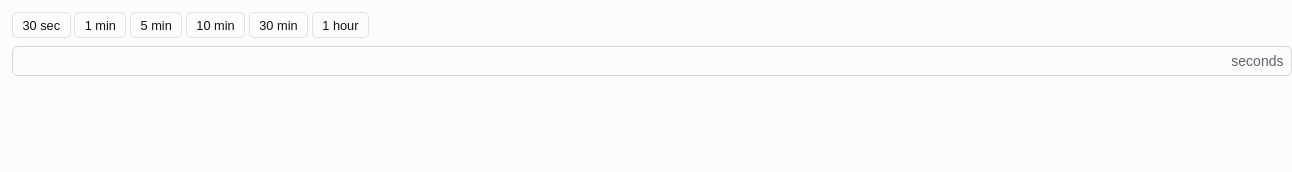
Test: a preset sets its seconds and shows as pressed
The image size is (1292, 172).
Click the button "10 min" at x=216, y=25, box x1=186 y1=12 x2=245 y2=38
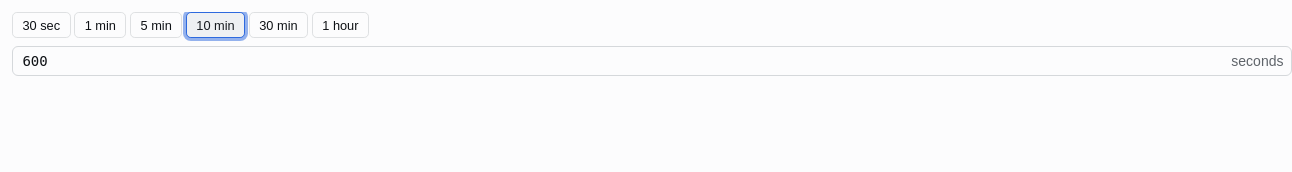
Expected: the field named "Hold time" holds "600", x1=13 y1=46 x2=1231 y2=76
